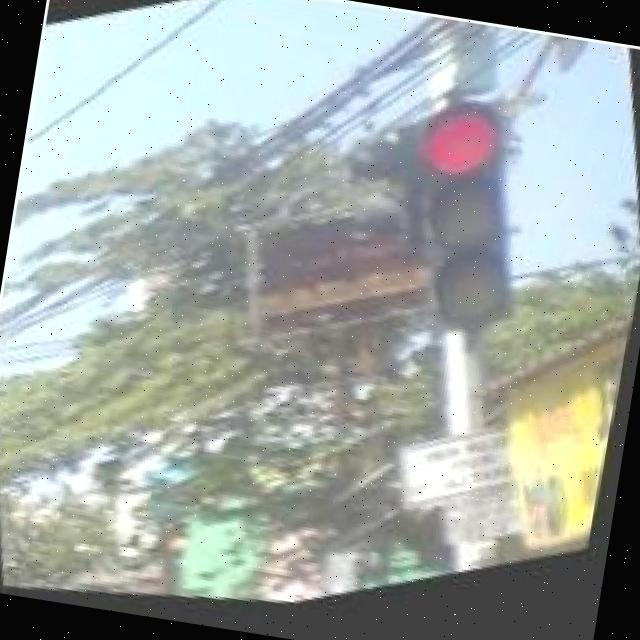red_light: (378, 92, 556, 364)
